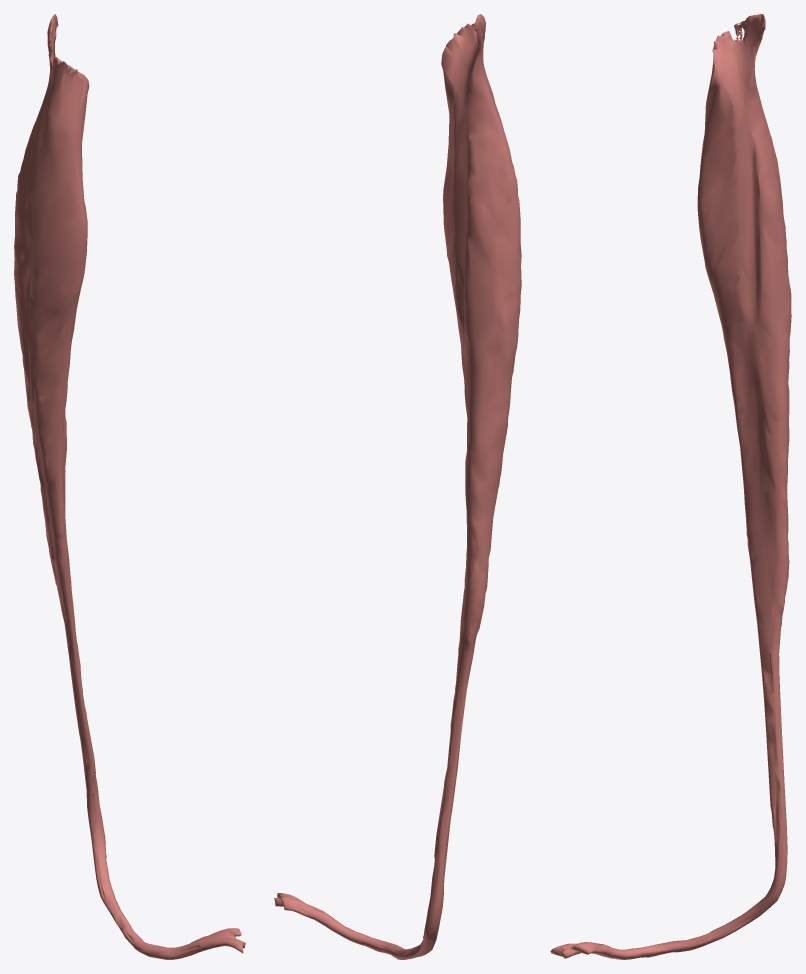
3 renders of one model, left to right at view 1: azimuth 30°, elevation 25°; view 2: azimuth 210°, elevation 25°; view 3: azimuth 270°, elevation 25°, orthographic. The views are drawn at different scales.
Parts seen in each view (by area): view 1: ZA_dd9e8918662d0cda; view 2: ZA_dd9e8918662d0cda; view 3: ZA_dd9e8918662d0cda.
Part boxes in pixels (left/top/right/bottom): ZA_dd9e8918662d0cda: left=14, top=14, right=245, bottom=959; ZA_dd9e8918662d0cda: left=274, top=14, right=521, bottom=959; ZA_dd9e8918662d0cda: left=550, top=14, right=791, bottom=959.
Size of the model in its own units: 0.0588 by 0.3792 by 0.0897.
